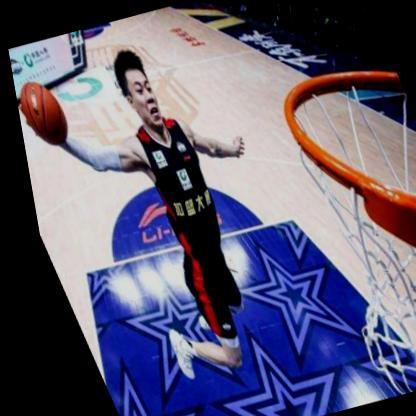basketball: (10, 74, 73, 151)
rim: (245, 54, 416, 398)
